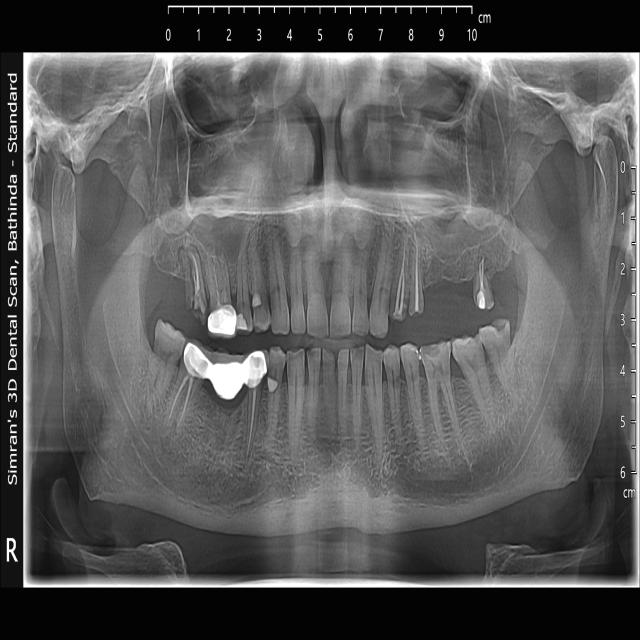Caries: (142, 305, 371, 321), (421, 341, 449, 372), (476, 298, 495, 325), (187, 304, 207, 328), (288, 349, 305, 376), (410, 304, 425, 327), (392, 317, 404, 333)
Crown: (182, 344, 267, 402), (208, 304, 237, 338)
Filling: (267, 378, 280, 396), (236, 315, 249, 331), (251, 292, 261, 311)
Missing teeth: (195, 390, 245, 452), (425, 260, 473, 315)
Periapical lesion: (320, 416, 339, 457), (173, 241, 192, 269)
Root Canal Treatment: (165, 345, 210, 440), (201, 243, 236, 336), (241, 352, 267, 467), (180, 245, 207, 327), (407, 224, 426, 318), (391, 228, 408, 320), (477, 246, 496, 304)
